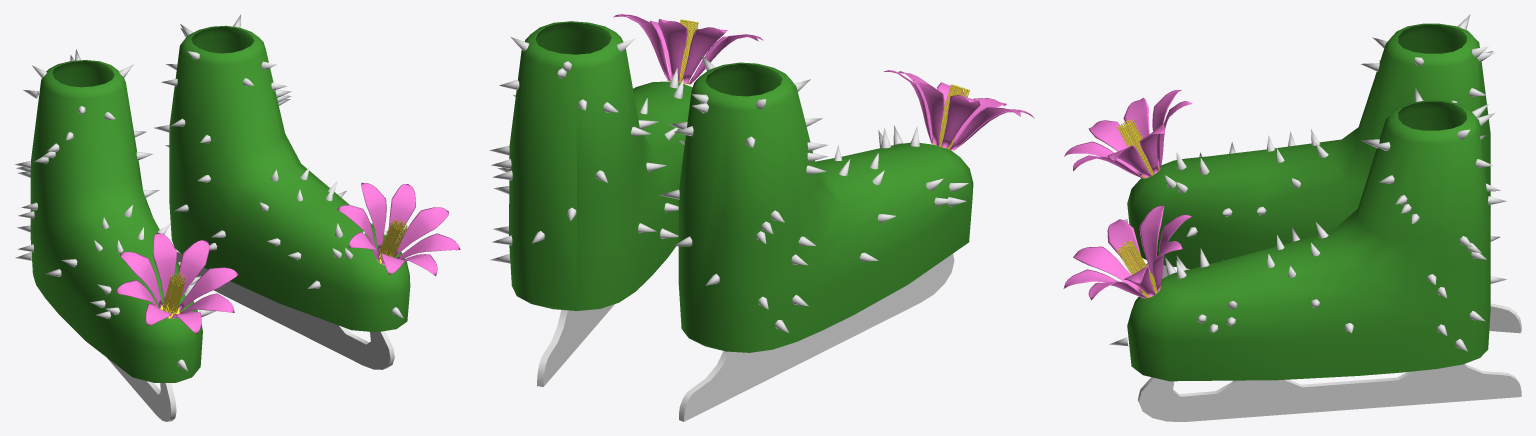
Rendered from CactusSkates.fbx.
3 renders of one model, left to right at view 1: azimuth 30°, elevation 25°; view 2: azimuth 150°, elevation 25°; view 3: azimuth 270°, elevation 25°, orthographic. The views are drawn at different scales.
Parts seen in each view (by area): view 1: Shoe|Cube|Dupli|, Shoe.001|Cube|Dupli|, Shoe|Cube.001|Dupli|1, Shoe.001|Cube.001|Dupli|1, Shoe|Plane.001|Dupli|83.52, Shoe.001|Plane|Dupli|82.52, Shoe.001|Plane.007|Dupli|89.52, Shoe.001|Plane.003|Dupli|85.52, Shoe|Plane|Dupli|82.52, Shoe|Plane.004|Dupli|86.52, Shoe.001|Plane.004|Dupli|86.52, Shoe|Plane.005|Dupli|87.52 (+3 smaller); view 2: Shoe.001|Cube|Dupli|, Shoe|Cube|Dupli|, Shoe.001|Cube.001|Dupli|1, Shoe|Cube.001|Dupli|1, Shoe|Plane|Dupli|82.52, Shoe.001|Plane.004|Dupli|86.52, Shoe|Plane.007|Dupli|89.52, Shoe.001|Plane|Dupli|82.52, Shoe.001|Plane.001|Dupli|83.52, Shoe|Plane.004|Dupli|86.52; view 3: Shoe|Cube|Dupli|, Shoe.001|Cube|Dupli|, Shoe|Cube.001|Dupli|1, Shoe|Plane.006|Dupli|88.52, Shoe|Plane.007|Dupli|89.52, Shoe.001|Cube.001|Dupli|1, Shoe|Plane.003|Dupli|85.52, Shoe.001|Plane.005|Dupli|87.52, Shoe.001|Plane.001|Dupli|83.52, Shoe.001|Plane.003|Dupli|85.52, Shoe.001|Plane.007|Dupli|89.52, Shoe.001|Plane.004|Dupli|86.52 (+6 smaller).
Boxes of the visible parts, bbox=[...] form: Shoe|Cube|Dupli|: bbox=[169, 25, 410, 332]; Shoe.001|Cube|Dupli|: bbox=[30, 60, 202, 382]; Shoe|Cube.001|Dupli|1: bbox=[176, 251, 394, 369]; Shoe.001|Cube.001|Dupli|1: bbox=[107, 358, 176, 421]; Shoe|Plane.001|Dupli|83.52: bbox=[393, 207, 448, 257]; Shoe.001|Plane|Dupli|82.52: bbox=[152, 232, 176, 302]; Shoe.001|Plane.007|Dupli|89.52: bbox=[176, 240, 209, 297]; Shoe.001|Plane.003|Dupli|85.52: bbox=[178, 267, 238, 311]; Shoe|Plane|Dupli|82.52: bbox=[361, 182, 386, 250]; Shoe|Plane.004|Dupli|86.52: bbox=[386, 184, 415, 249]; Shoe.001|Plane.004|Dupli|86.52: bbox=[119, 251, 162, 307]; Shoe|Plane.005|Dupli|87.52: bbox=[396, 233, 460, 259]; Shoe.001|Cube|Dupli|: bbox=[678, 62, 973, 352]; Shoe|Cube|Dupli|: bbox=[509, 21, 692, 310]; Shoe.001|Cube.001|Dupli|1: bbox=[679, 254, 954, 421]; Shoe|Cube.001|Dupli|1: bbox=[537, 304, 614, 386]; Shoe|Plane|Dupli|82.52: bbox=[658, 19, 688, 81]; Shoe.001|Plane.004|Dupli|86.52: bbox=[941, 95, 980, 148]; Shoe|Plane.007|Dupli|89.52: bbox=[682, 27, 727, 83]; Shoe.001|Plane|Dupli|82.52: bbox=[913, 80, 944, 145]; Shoe.001|Plane.001|Dupli|83.52: bbox=[950, 107, 1020, 150]; Shoe|Plane.004|Dupli|86.52: bbox=[618, 14, 670, 80]; Shoe|Cube|Dupli|: bbox=[1127, 100, 1490, 381]; Shoe.001|Cube|Dupli|: bbox=[1127, 23, 1490, 268]; Shoe|Cube.001|Dupli|1: bbox=[1137, 363, 1521, 421]; Shoe|Plane.006|Dupli|88.52: bbox=[1073, 246, 1142, 293]; Shoe|Plane.007|Dupli|89.52: bbox=[1139, 205, 1164, 276]; Shoe.001|Cube.001|Dupli|1: bbox=[1146, 263, 1521, 333]; Shoe|Plane.003|Dupli|85.52: bbox=[1107, 219, 1141, 272]; Shoe.001|Plane.005|Dupli|87.52: bbox=[1088, 120, 1129, 151]; Shoe.001|Plane.001|Dupli|83.52: bbox=[1123, 97, 1149, 164]; Shoe.001|Plane.003|Dupli|85.52: bbox=[1107, 145, 1151, 177]; Shoe.001|Plane.007|Dupli|89.52: bbox=[1139, 125, 1164, 174]; Shoe.001|Plane.004|Dupli|86.52: bbox=[1152, 90, 1181, 166].
Bounding box in the file's own units: 678 × 501 × 713.
